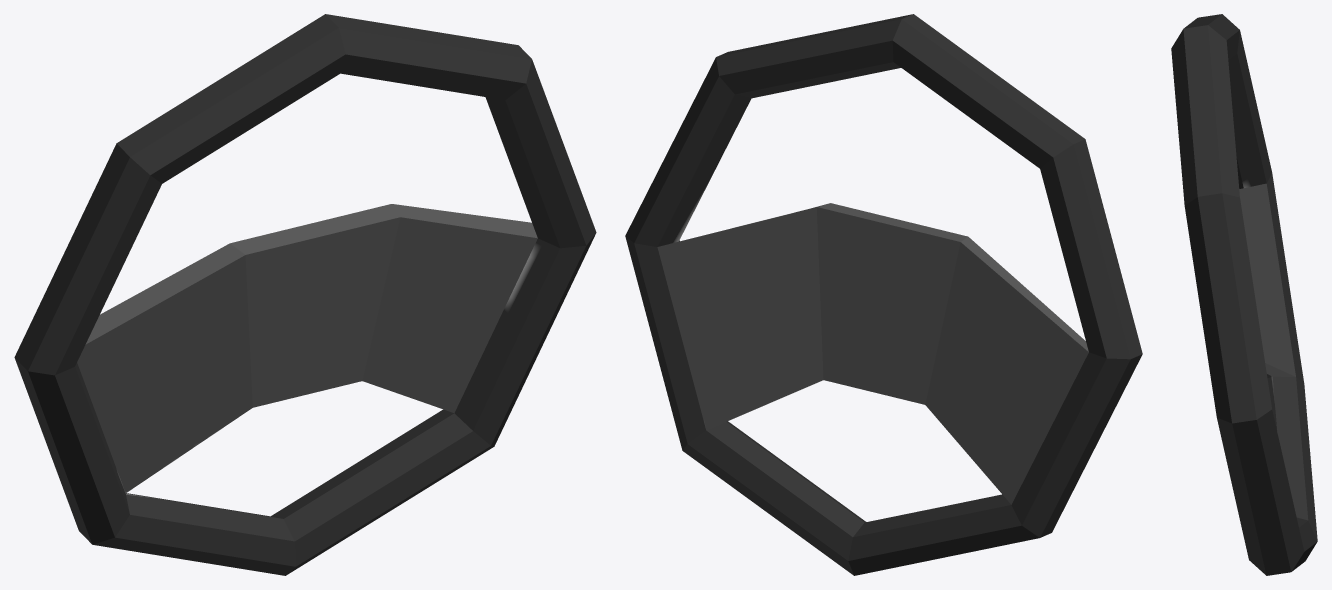
The model's file is Manibela.fbx.
3 renders of one model, left to right at view 1: azimuth 30°, elevation 25°; view 2: azimuth 150°, elevation 25°; view 3: azimuth 270°, elevation 25°, orthographic. The views are drawn at different scales.
Visible parts, largest first — view 1: polySurface7; view 2: polySurface7; view 3: polySurface7.
Boxes of the visible parts, <box> form: polySurface7: <box>14,14,596,575</box>; polySurface7: <box>625,14,1142,575</box>; polySurface7: <box>1171,14,1317,575</box>.
Size of the model in its own units: 7.47 by 7.42 by 1.82.
